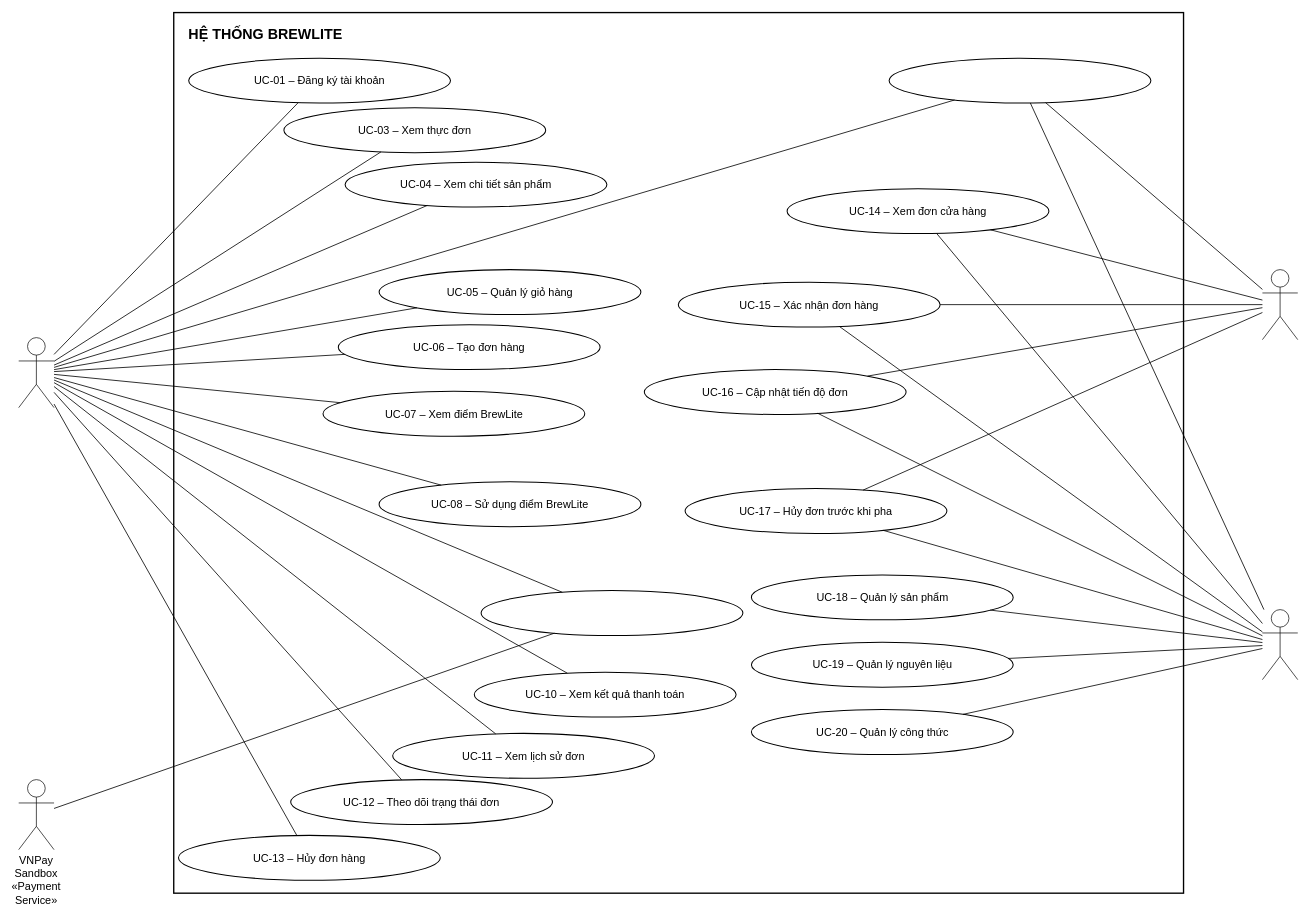
Image size: 1310x918. Some labels were removed from this diagram. Each missing label, with the centre of its shape:
Khách hàng: point (36, 372)
Nhân viên quầy: point (1280, 304)
Quản lý cửa hàng: point (1280, 644)
UC-02 – Đăng nhập: point (1019, 80)
UC-09 – Thanh toán VNPay: point (611, 613)
